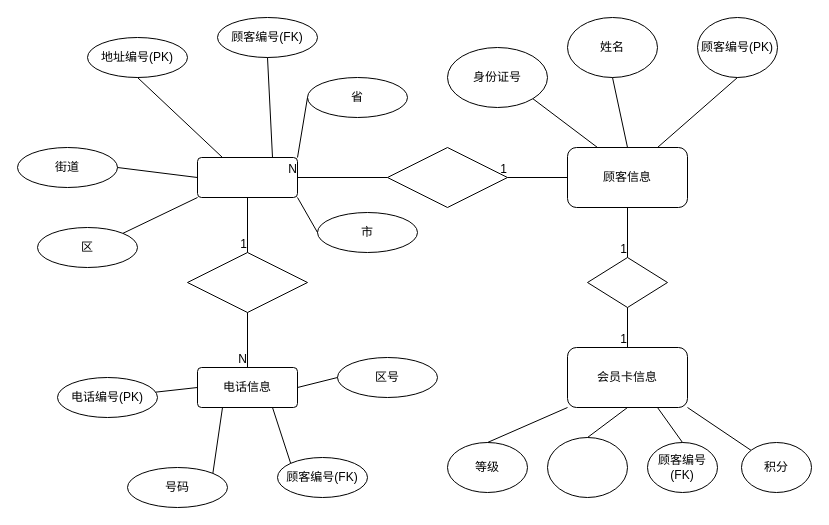
Image size: 829x525. Some labels were removed from this diagram. The shapes that lost their labels are listed below. From the top down, each one's box as (x1, y1, x2, y2) in pixels, then its label:
(196, 156, 298, 198): 地址信息
(386, 146, 508, 208): 居住
(186, 252, 308, 312): 包含
(586, 256, 668, 308): 办理
(546, 436, 628, 498): 会员卡号(PK)
